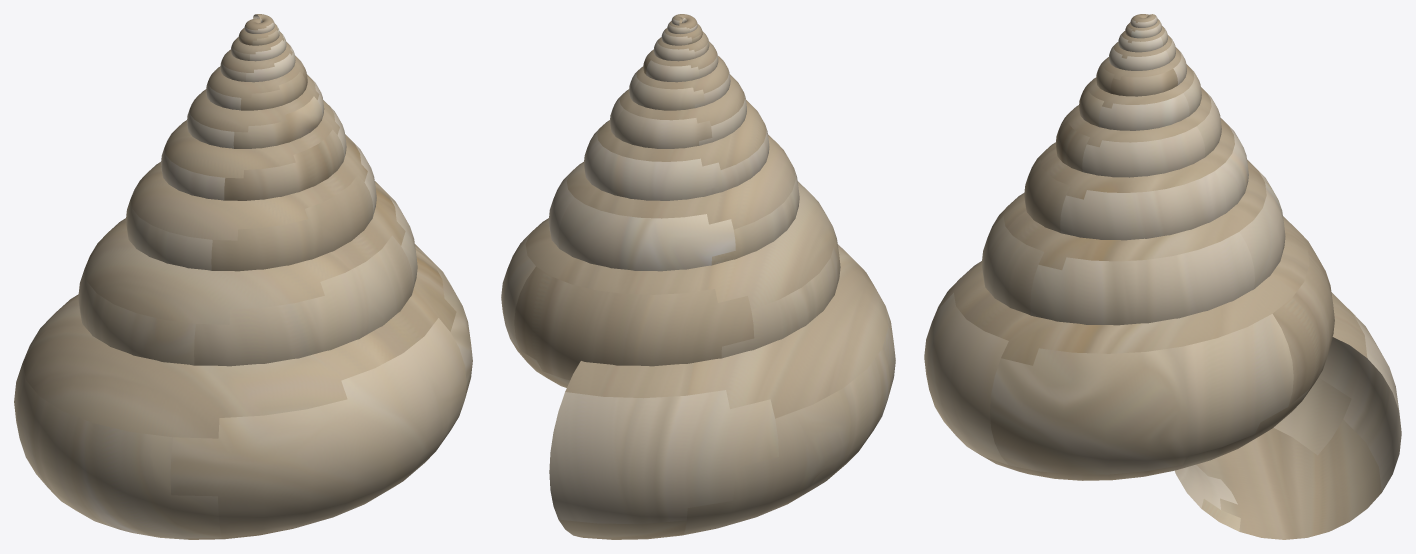
The model's file is shell.obj.
3 renders of one model, left to right at view 1: azimuth 30°, elevation 25°; view 2: azimuth 150°, elevation 25°; view 3: azimuth 270°, elevation 25°, orthographic. The views are drawn at different scales.
Parts seen in each view (by area): view 1: 円; view 2: 円; view 3: 円.
Boxes of the visible parts, x1,y1,x2,y2 form: 円: (14, 14, 472, 539); 円: (501, 14, 895, 539); 円: (924, 14, 1401, 539).
Size of the model in its own units: 3.77 by 4.85 by 4.07.
Materials: 1 (1 with a texture image).
